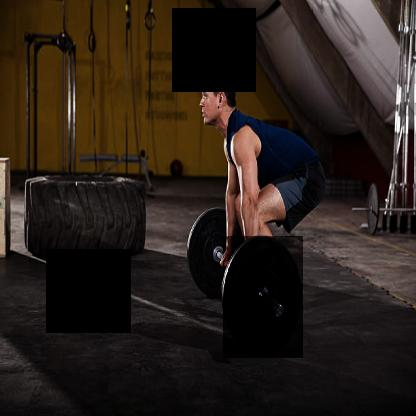barbell: (224, 237, 304, 359)
